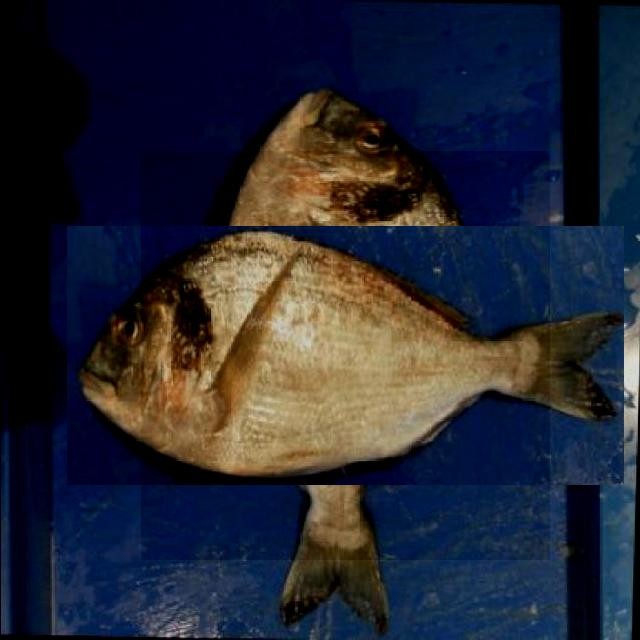Healthy Fish: (140, 151, 549, 560)
